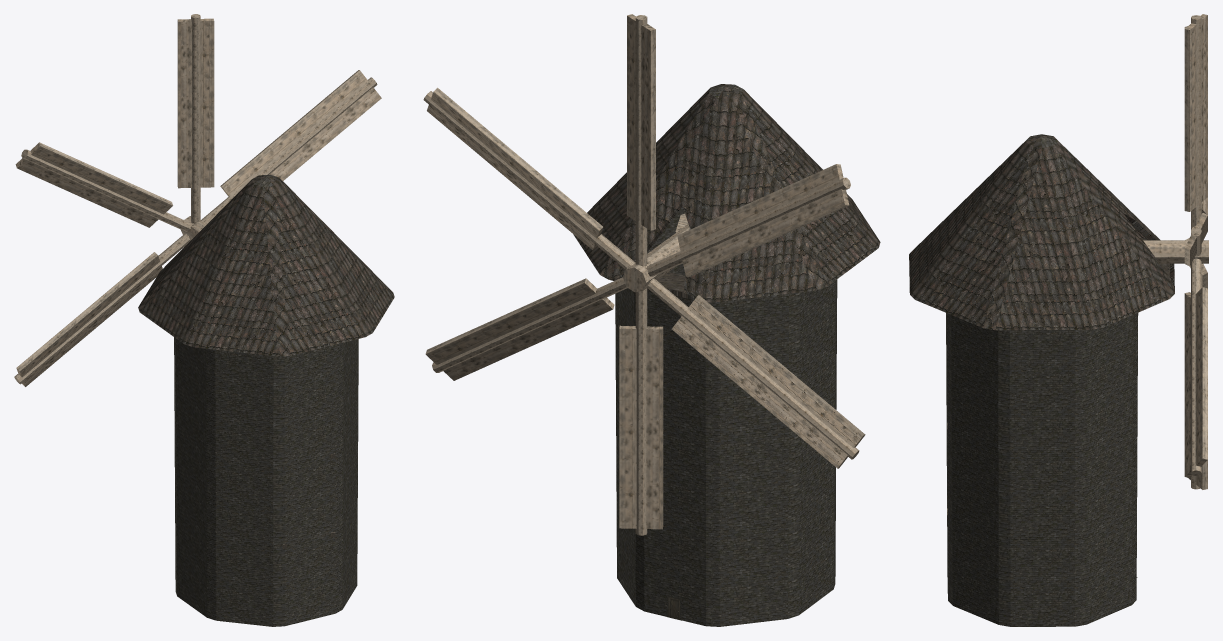
The model's file is windmill.fbx.
The picture shows the model from 3 angles, left to right: view 1: azimuth 30°, elevation 25°; view 2: azimuth 150°, elevation 25°; view 3: azimuth 270°, elevation 25°; orthographic projection. The views are drawn at different scales.
Visible parts, largest first — view 1: Windmill, Cube.001, Cube.003, Cube.005, Cube.002, wing2, wing1, wing3; view 2: Windmill, Cube.002, Cube.004, Cube.005, Cube.006, Cube.001, wing1, wing2, Cube.003, wing3, mainbeam; view 3: Windmill, Cube.001, Cube.006, wing3, wing1, mainbeam, Cube.003.
Part boxes in pixels (box(x1,y1,x2,y2)): Windmill: box(138, 174, 394, 626); Cube.001: box(177, 18, 214, 188); Cube.003: box(220, 70, 381, 197); Cube.005: box(15, 142, 172, 227); Cube.002: box(16, 252, 162, 386); wing2: box(14, 77, 377, 384); wing1: box(191, 14, 200, 223); wing3: box(21, 149, 191, 231); Windmill: box(573, 84, 880, 626); Cube.002: box(671, 295, 865, 468); Cube.004: box(619, 325, 663, 529); Cube.005: box(677, 164, 849, 276); Cube.006: box(425, 278, 614, 380); Cube.001: box(627, 14, 655, 230); wing1: box(635, 15, 647, 535); wing2: box(423, 91, 859, 459); Cube.003: box(427, 87, 603, 250); wing3: box(432, 177, 850, 372); mainbeam: box(623, 224, 689, 292); Windmill: box(909, 134, 1174, 626); Cube.001: box(1184, 14, 1207, 211); Cube.006: box(1184, 287, 1207, 478); wing3: box(1191, 258, 1201, 475); wing1: box(1191, 15, 1201, 489); mainbeam: box(1143, 240, 1208, 263); Cube.003: box(1184, 213, 1207, 266).
Size of the model in its own units: 183 by 253 by 120.
